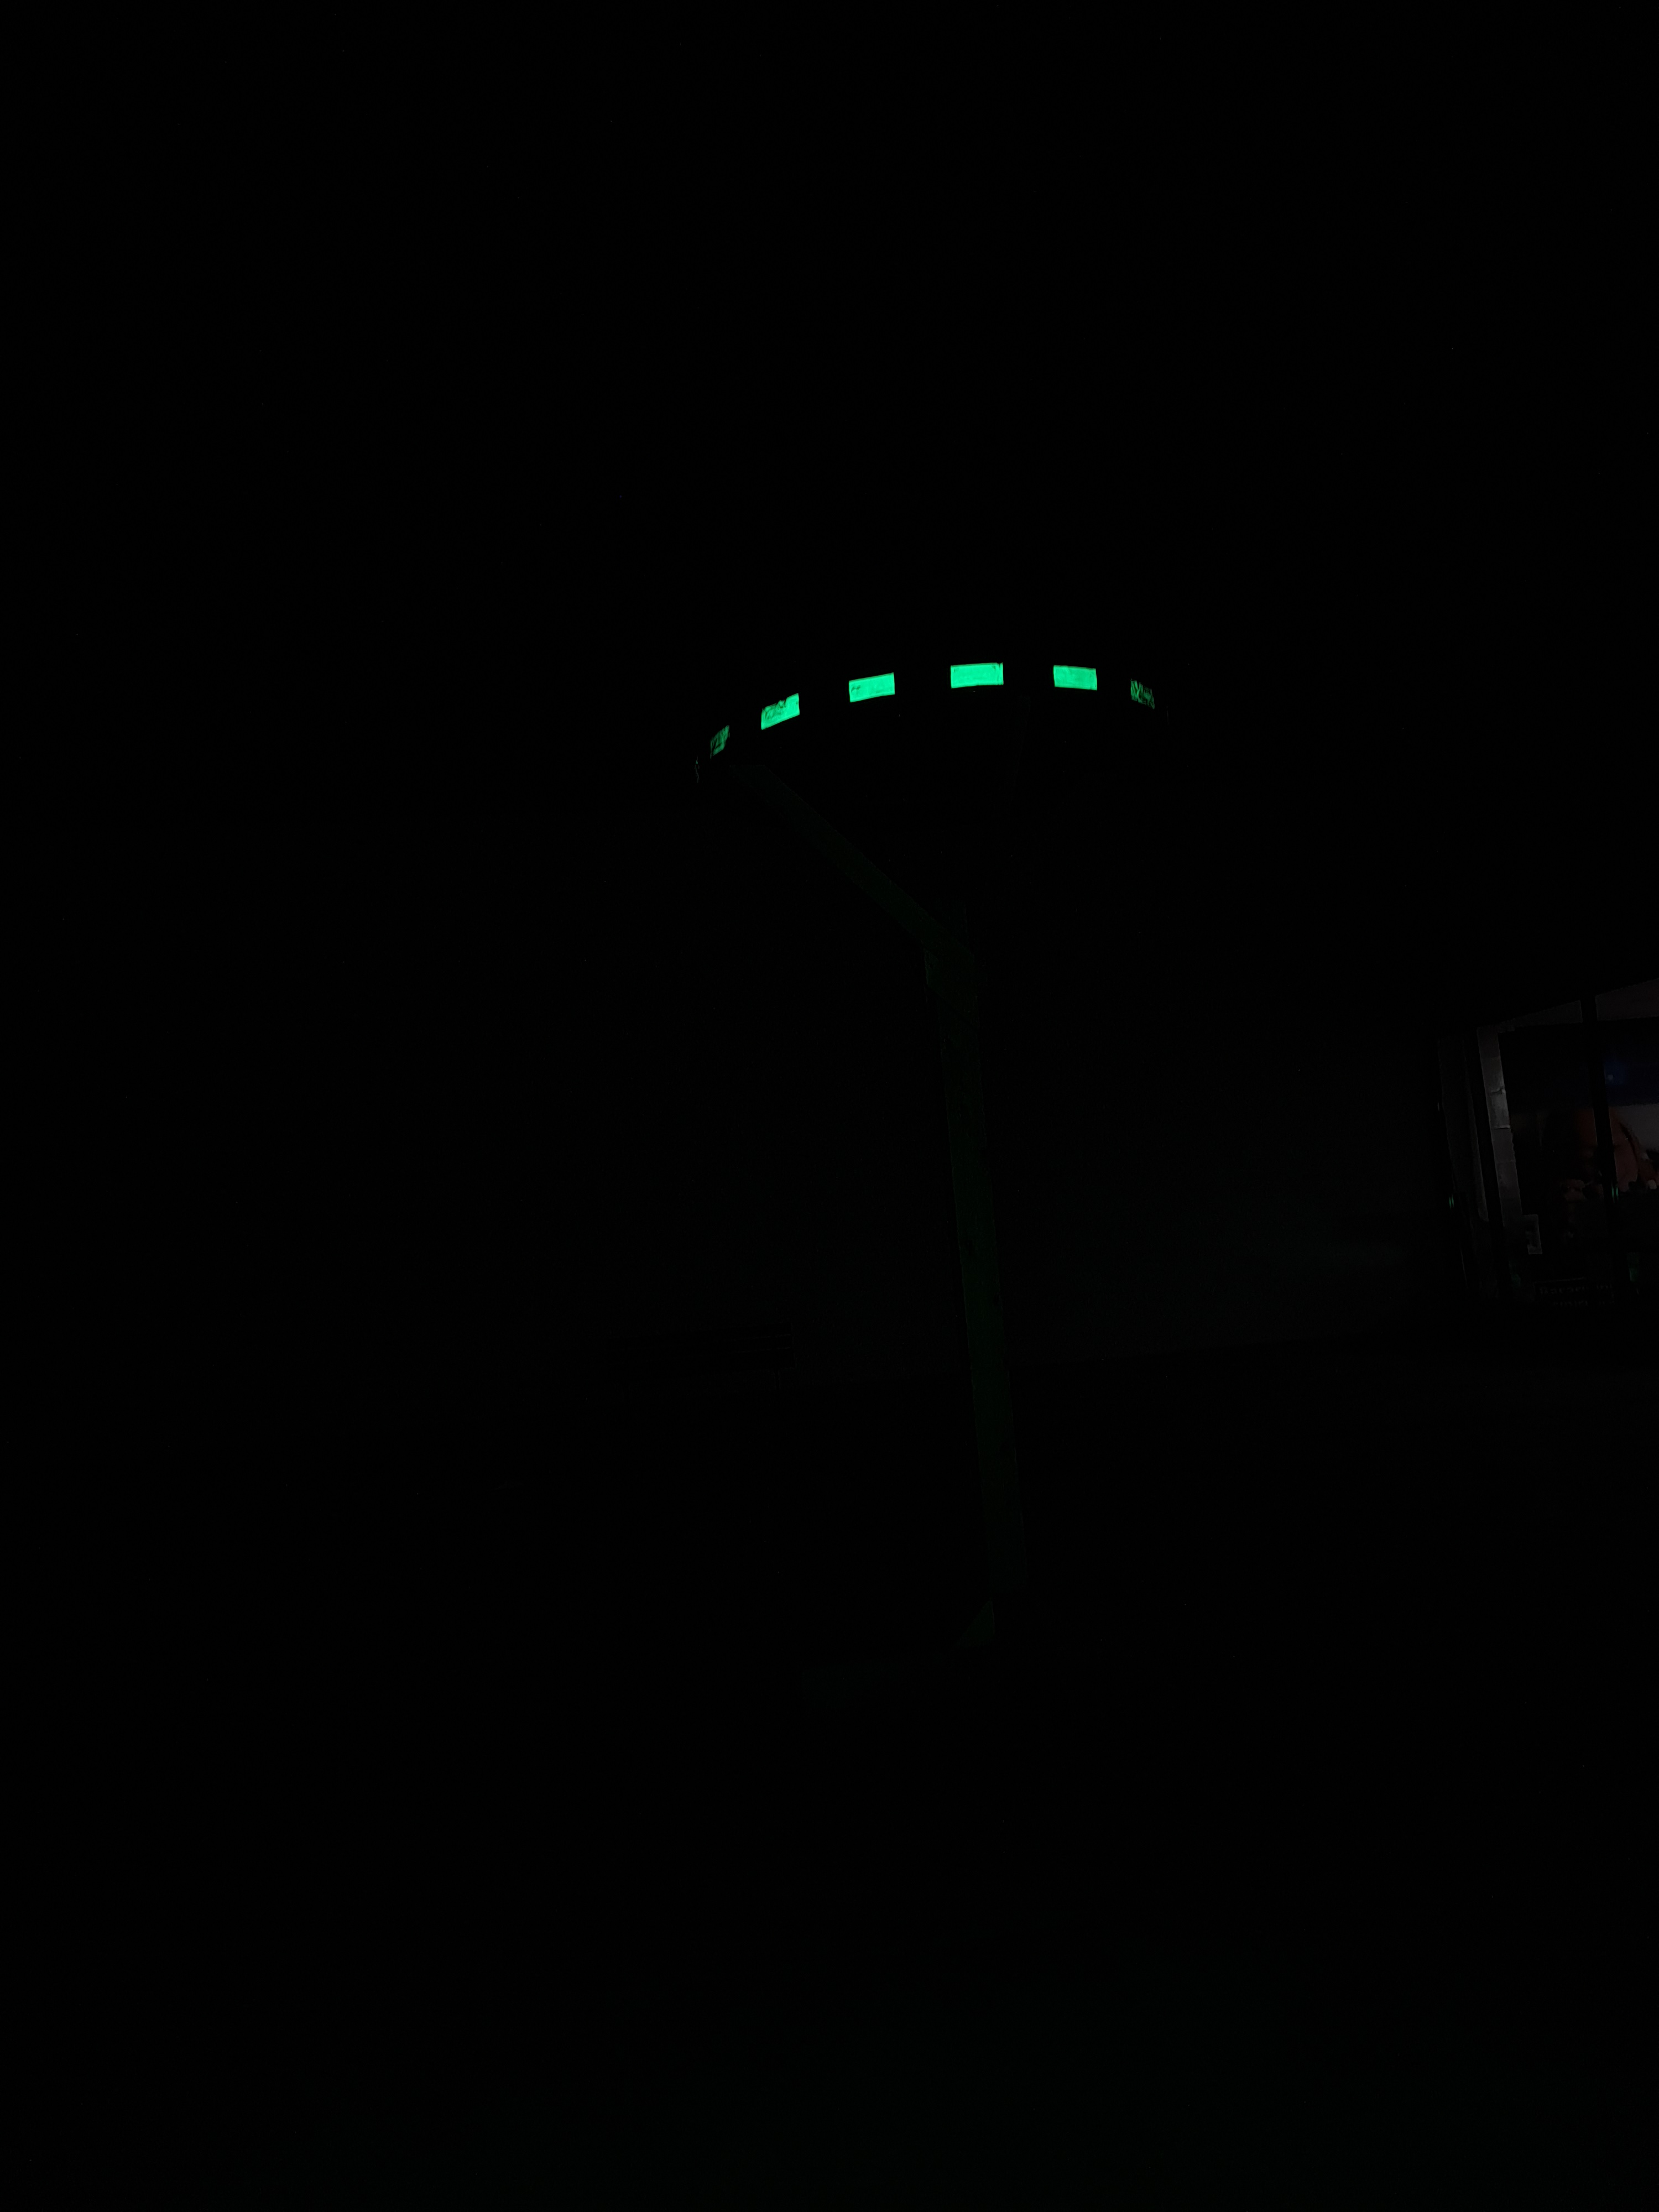hoop: (688, 629, 1195, 779)
